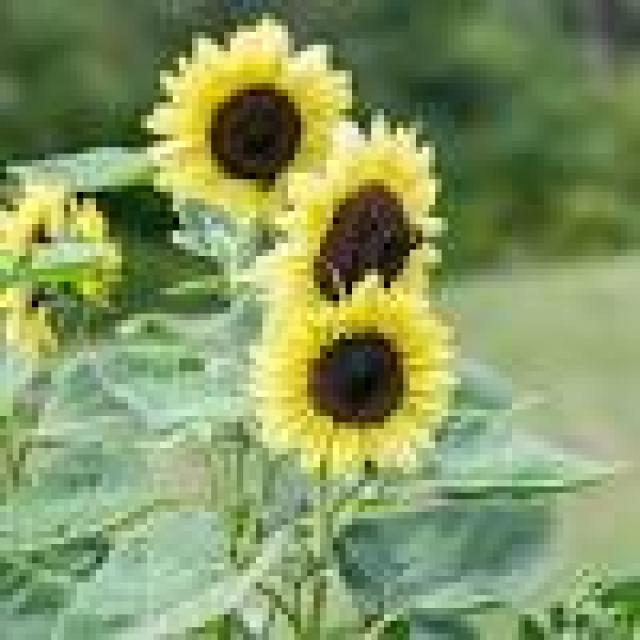sunflower: (133, 2, 379, 258), (225, 261, 467, 481), (230, 114, 450, 327), (0, 156, 135, 382)
